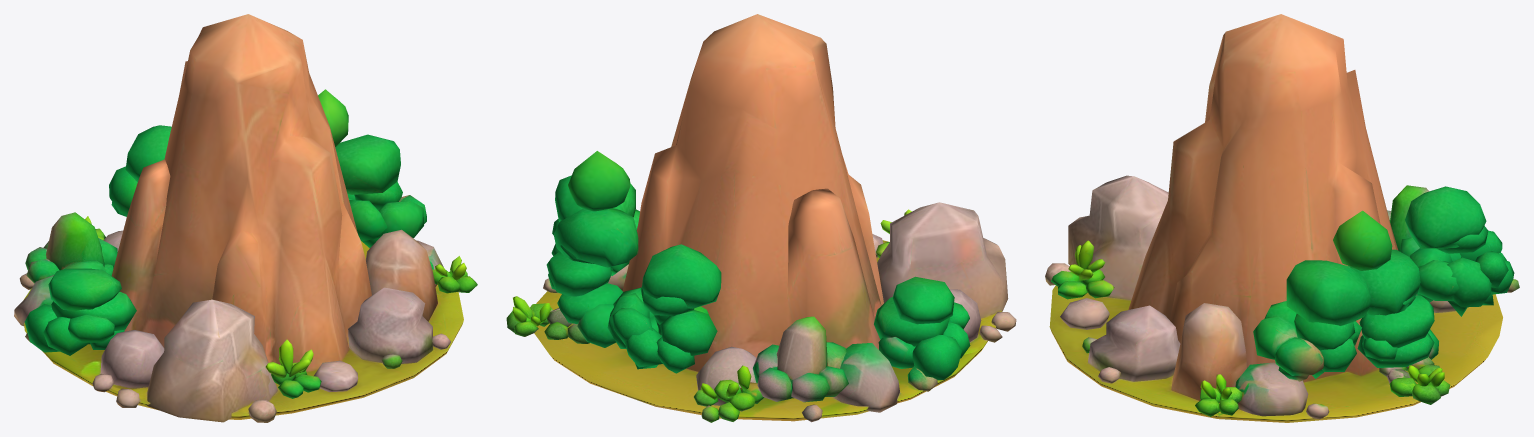
Rendered from r1c2_tall_sandstone_spire.glb.
The picture shows the model from 3 angles, left to right: view 1: azimuth 30°, elevation 25°; view 2: azimuth 150°, elevation 25°; view 3: azimuth 270°, elevation 25°; orthographic projection. The views are drawn at different scales.
Size of the model in its own units: 1 by 0.7363 by 1.
Materials: 1 (1 with a texture image).
